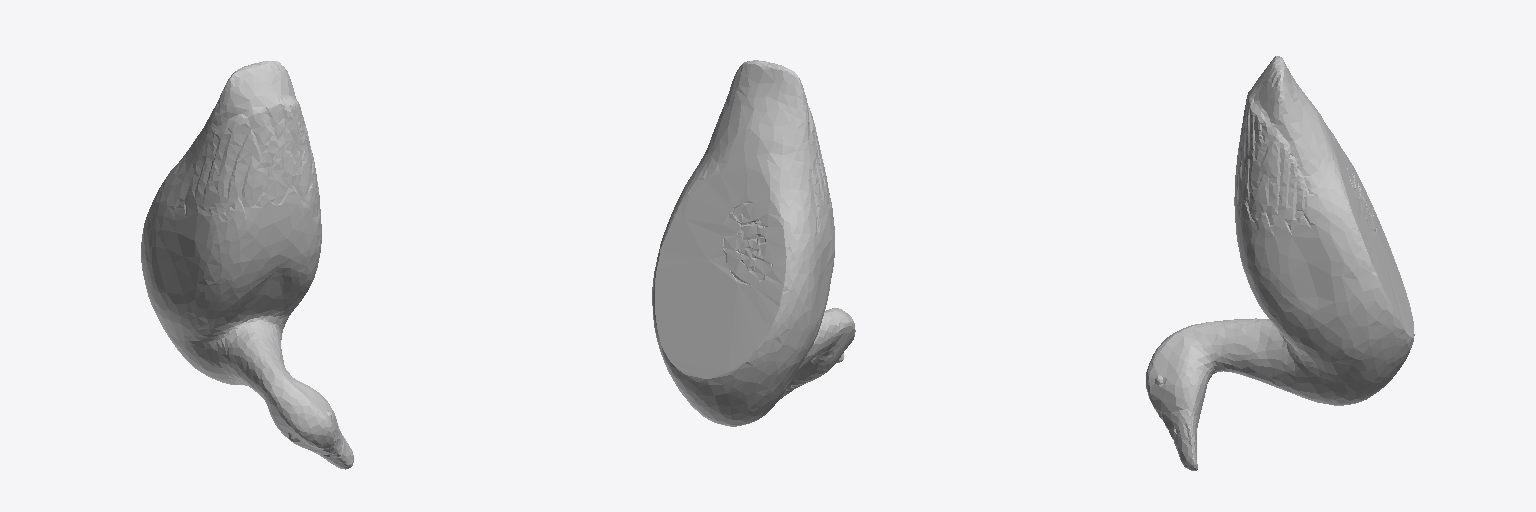
The model's file is duck5_T5k1.obj.
3 renders of one model, left to right at view 1: azimuth 30°, elevation 25°; view 2: azimuth 150°, elevation 25°; view 3: azimuth 270°, elevation 25°, orthographic.
Bounding box in the file's own units: 67.1 × 167 × 106.